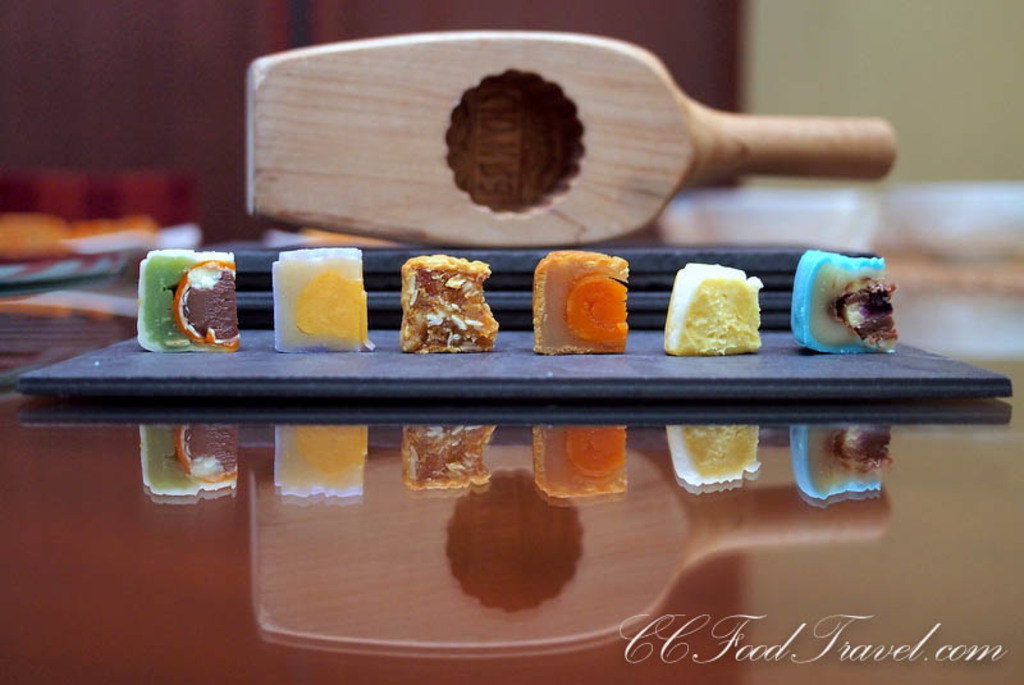sushi: (541, 252, 631, 359)
